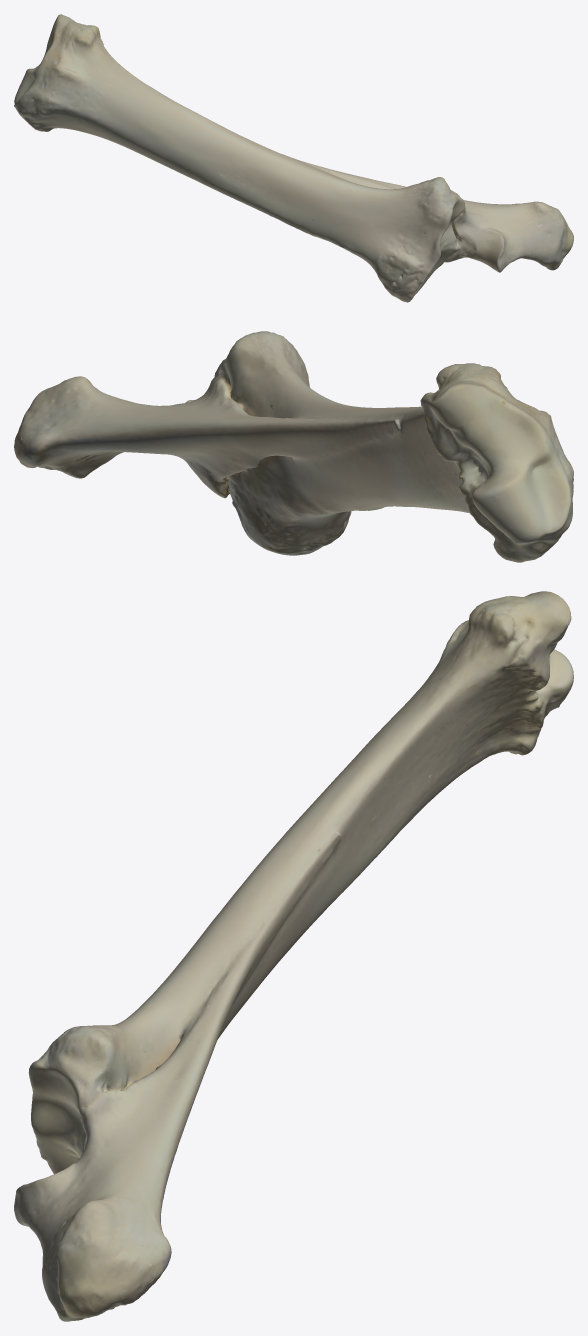
The model's file is Ossa_antebrach_re_pony.fbx.
3 views of the same model, one above another, from view 1: azimuth 30°, elevation 25°; view 2: azimuth 150°, elevation 25°; view 3: azimuth 270°, elevation 25° (orthographic). The views are drawn at different scales.
Parts seen in each view (by area): view 1: Radius_Ulna_re_Pony.001; view 2: Radius_Ulna_re_Pony.001; view 3: Radius_Ulna_re_Pony.001.
Part boxes in pixels (left/top/right/bottom): Radius_Ulna_re_Pony.001: left=14, top=14, right=573, bottom=302; Radius_Ulna_re_Pony.001: left=14, top=331, right=573, bottom=562; Radius_Ulna_re_Pony.001: left=14, top=591, right=573, bottom=1321.
Size of the model in its own units: 19172 by 10362 by 12207.
